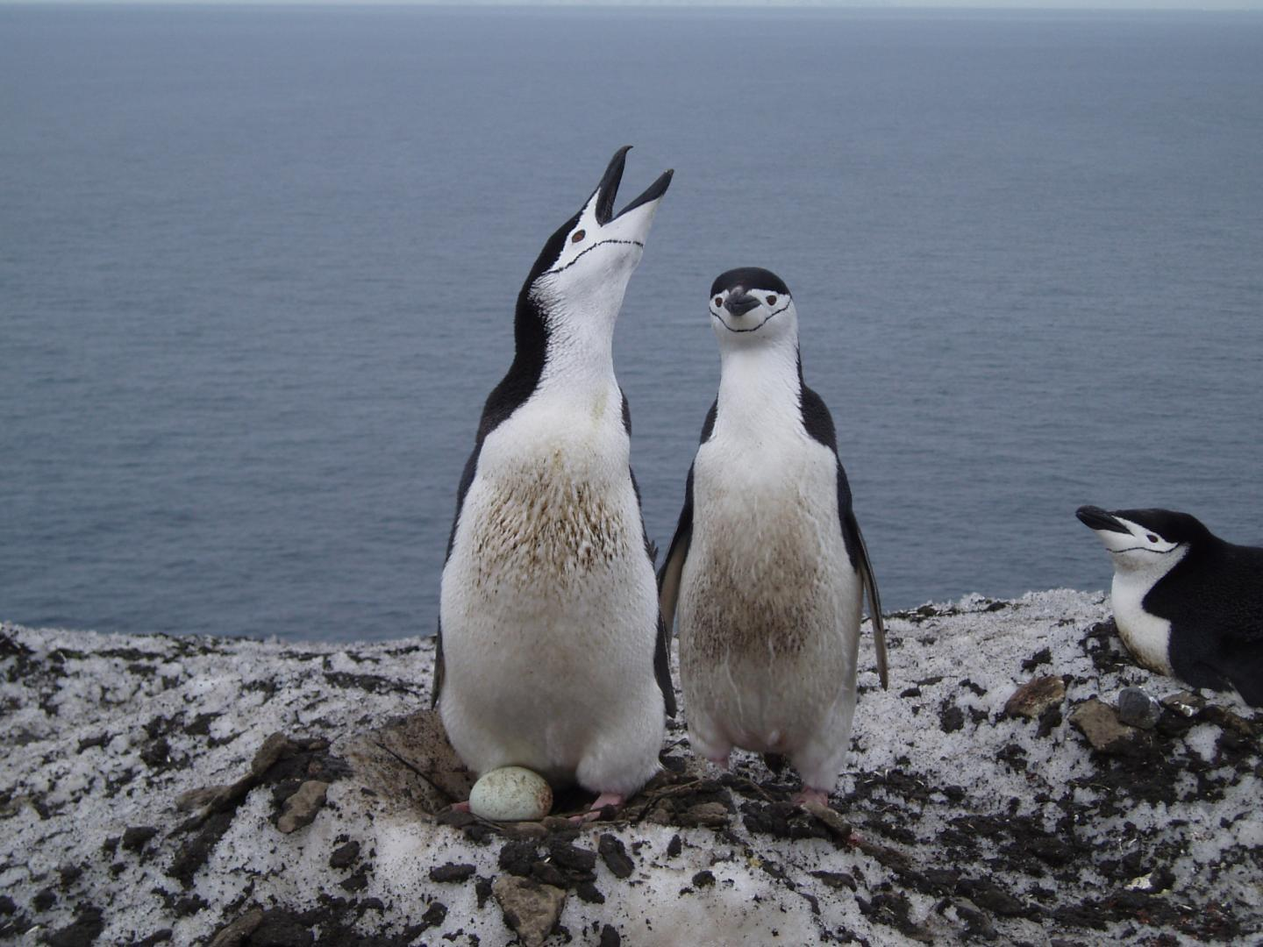Penguin: (434, 148, 675, 821), (659, 267, 888, 804), (1075, 506, 1262, 705)
